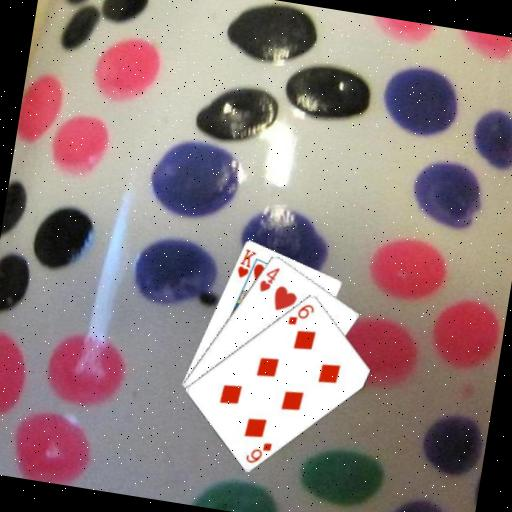4H: (255, 261, 282, 296)
6D: (242, 435, 274, 467), (285, 298, 316, 329)
KH: (233, 244, 259, 281)
